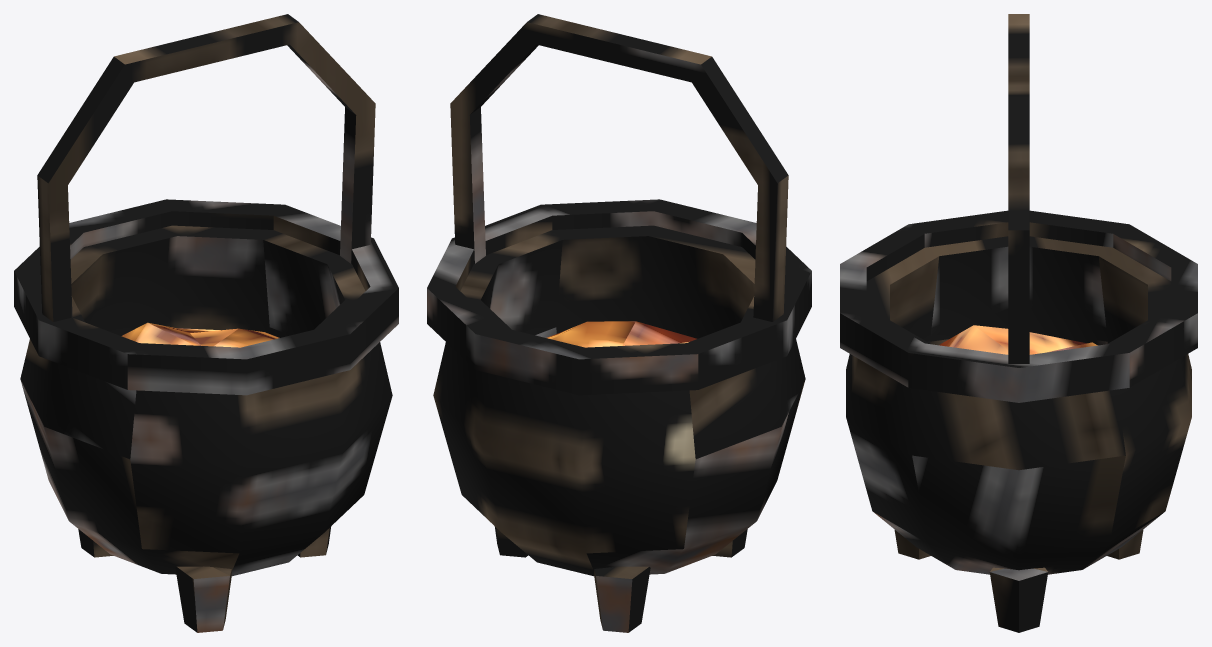
The model's file is braisier.fbx.
The picture shows the model from 3 angles, left to right: view 1: azimuth 30°, elevation 25°; view 2: azimuth 150°, elevation 25°; view 3: azimuth 270°, elevation 25°; orthographic projection. The views are drawn at different scales.
Parts seen in each view (by area): view 1: braisier; view 2: braisier; view 3: braisier.
Boxes of the visible parts, box(x1,y1,x2,y2) form: braisier: box(14, 14, 398, 632); braisier: box(427, 14, 811, 632); braisier: box(840, 14, 1197, 632).
Bounding box in the file's own units: 0.244 × 0.372 × 0.2321.
Materials: 1 (1 with a texture image).
